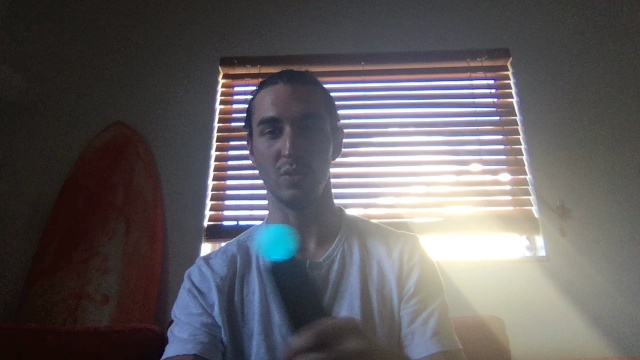wand: (258, 224, 297, 260)
